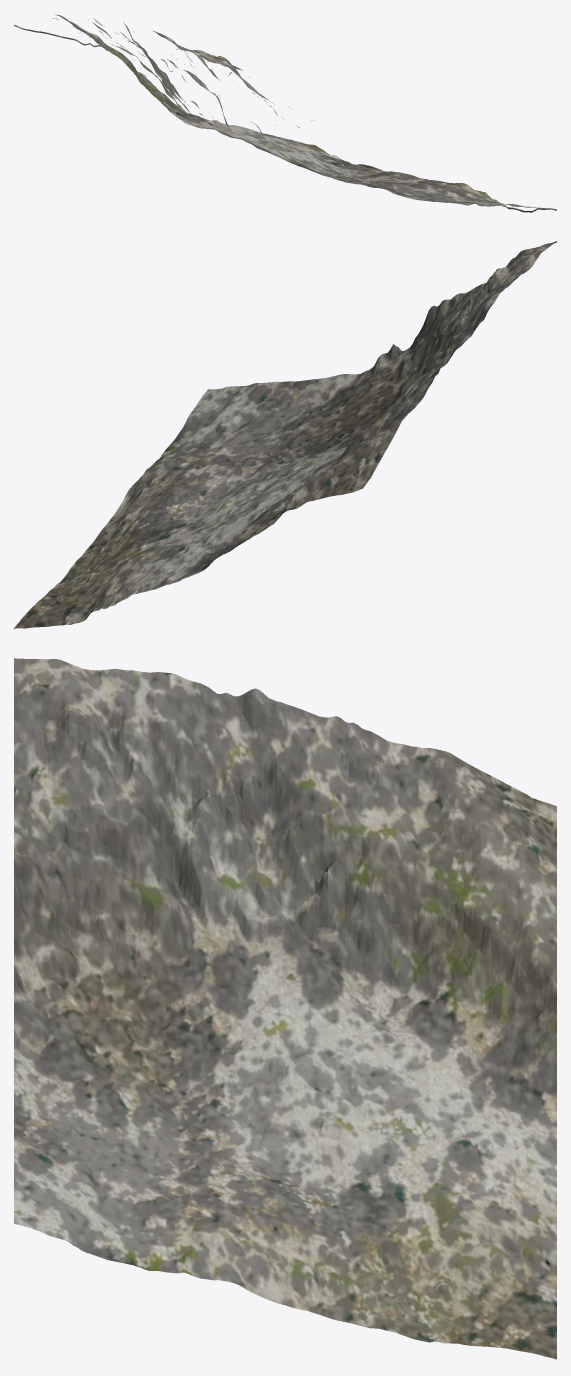
3 views of the same model, one above another, from view 1: azimuth 30°, elevation 25°; view 2: azimuth 150°, elevation 25°; view 3: azimuth 270°, elevation 25° (orthographic). The views are drawn at different scales.
Bounding box in the file's own units: 250 × 227 × 241.
Materials: 1 (1 with a texture image).
